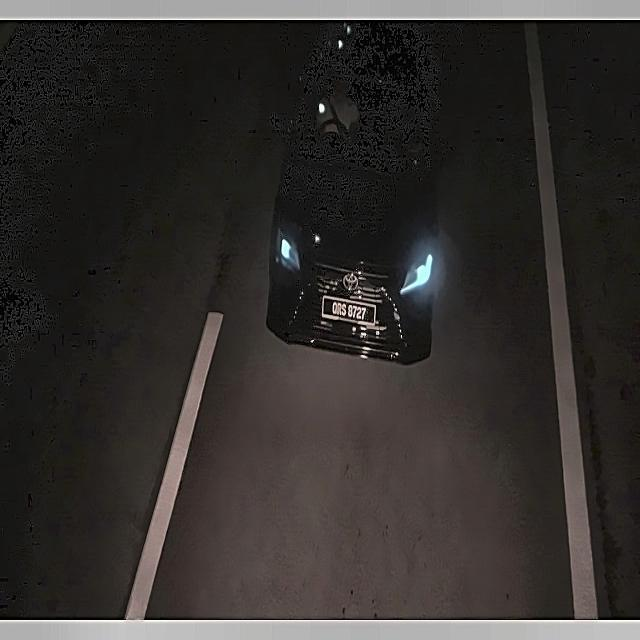car: (316, 288, 383, 334)
